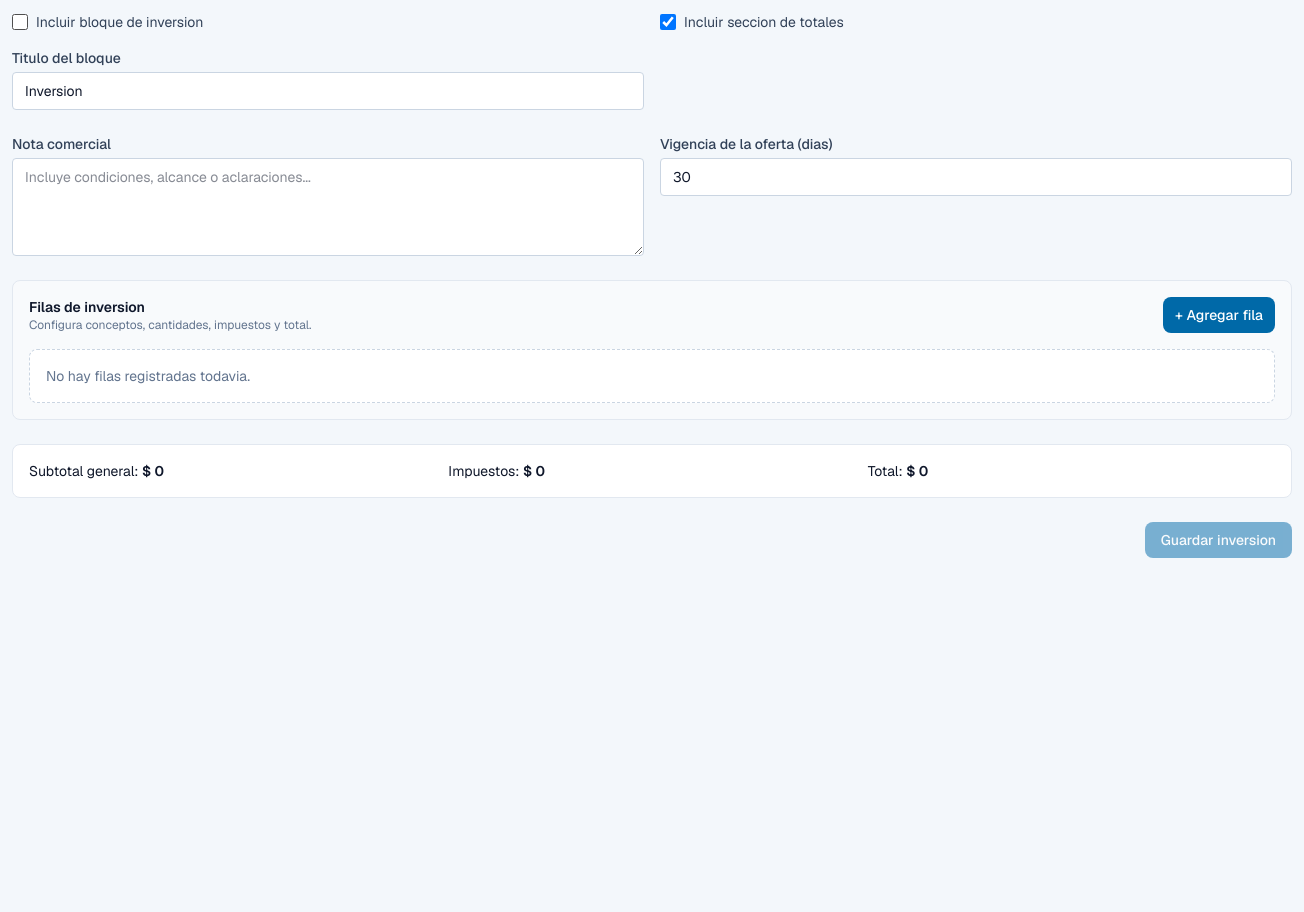
Test: InvestmentForm › adds rows and validates missing concept when enabled
Step 1. Click the checkbox labelled "Incluir bloque de inversion" → x=20, y=22, box [12,14,28,30]
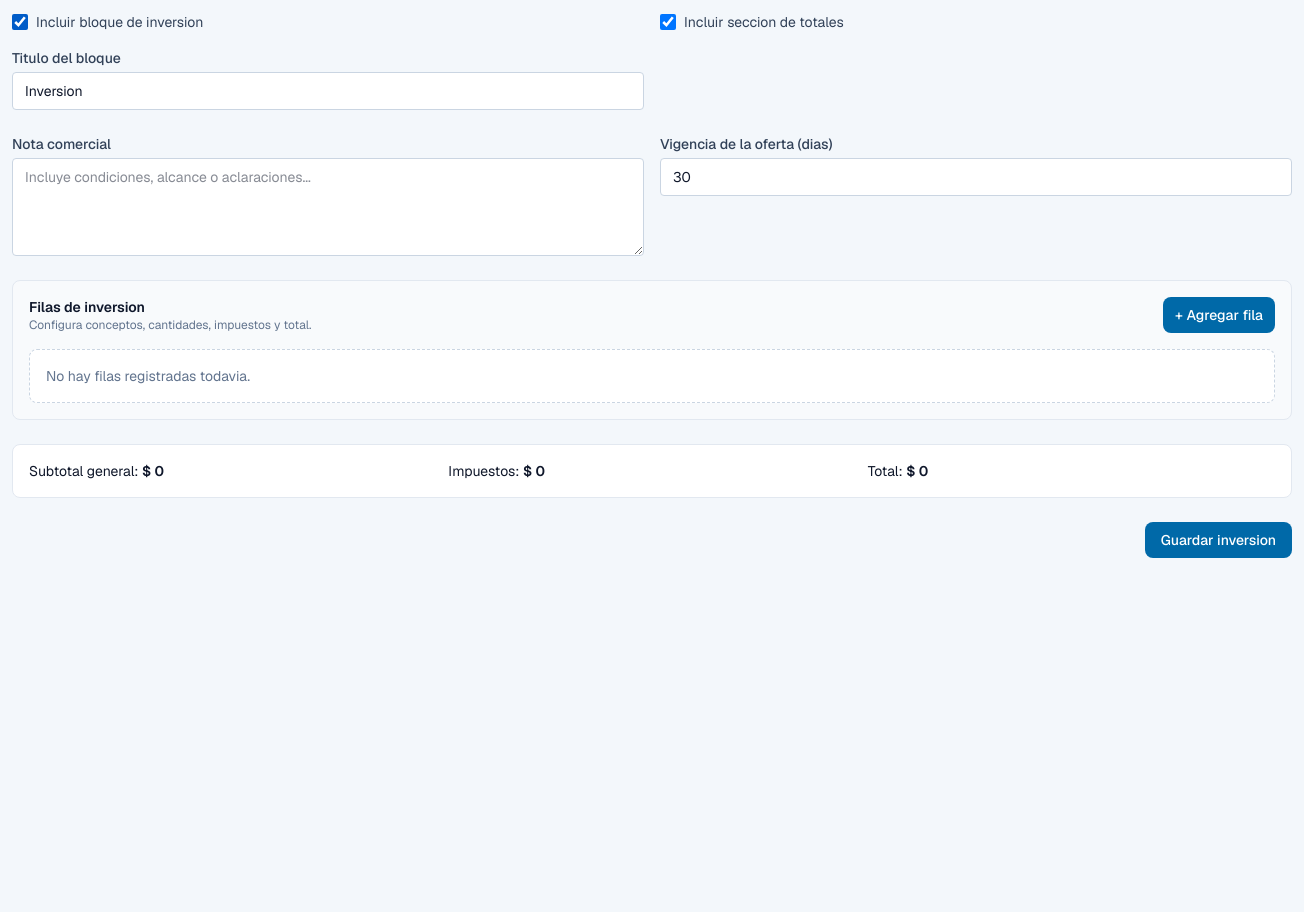
Step 2. Click the button "+ Agregar fila" → x=1219, y=315, box [1163,297,1275,333]
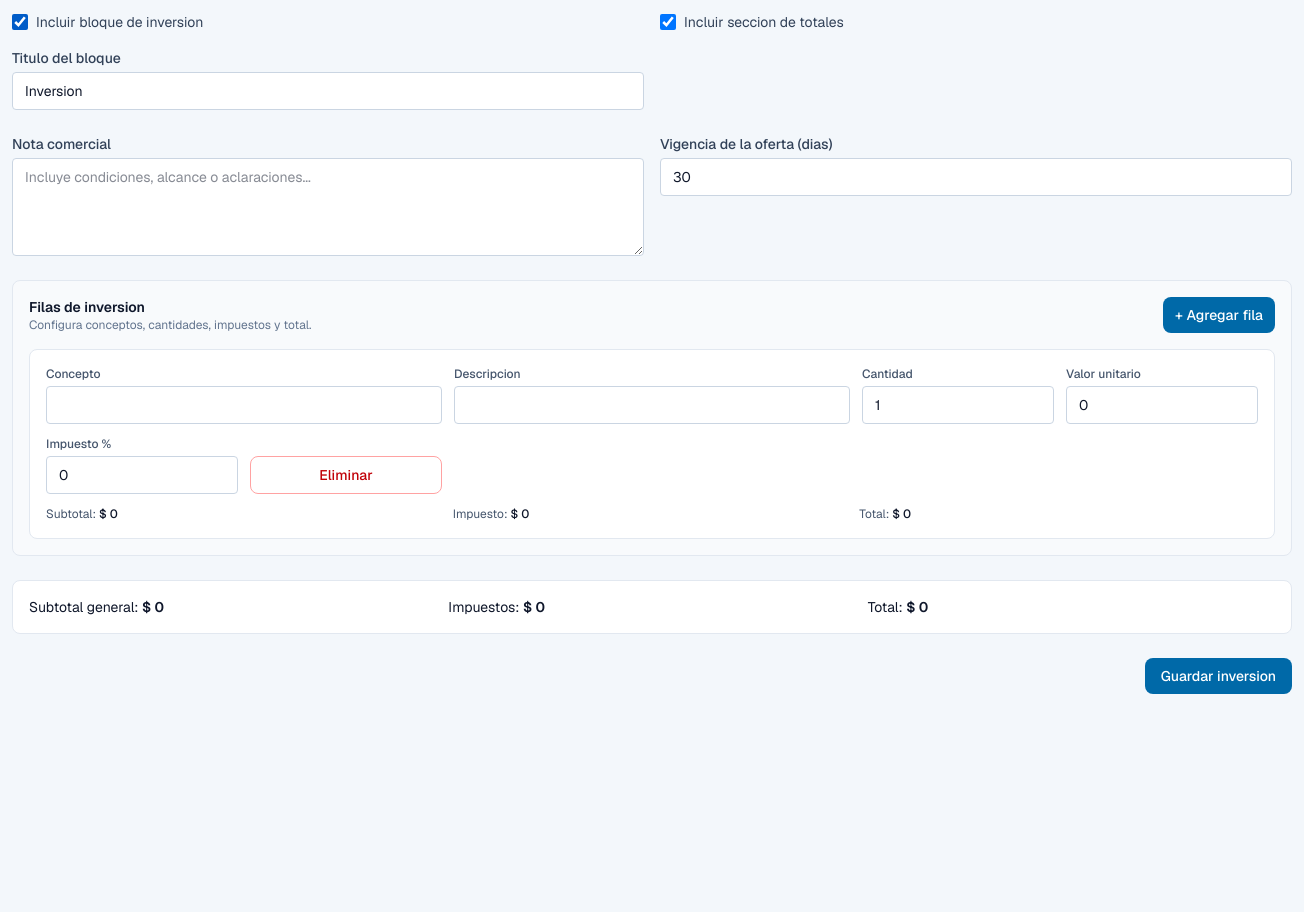
Step 3. Click the button "Guardar inversion" → x=1218, y=676, box [1145,658,1292,694]
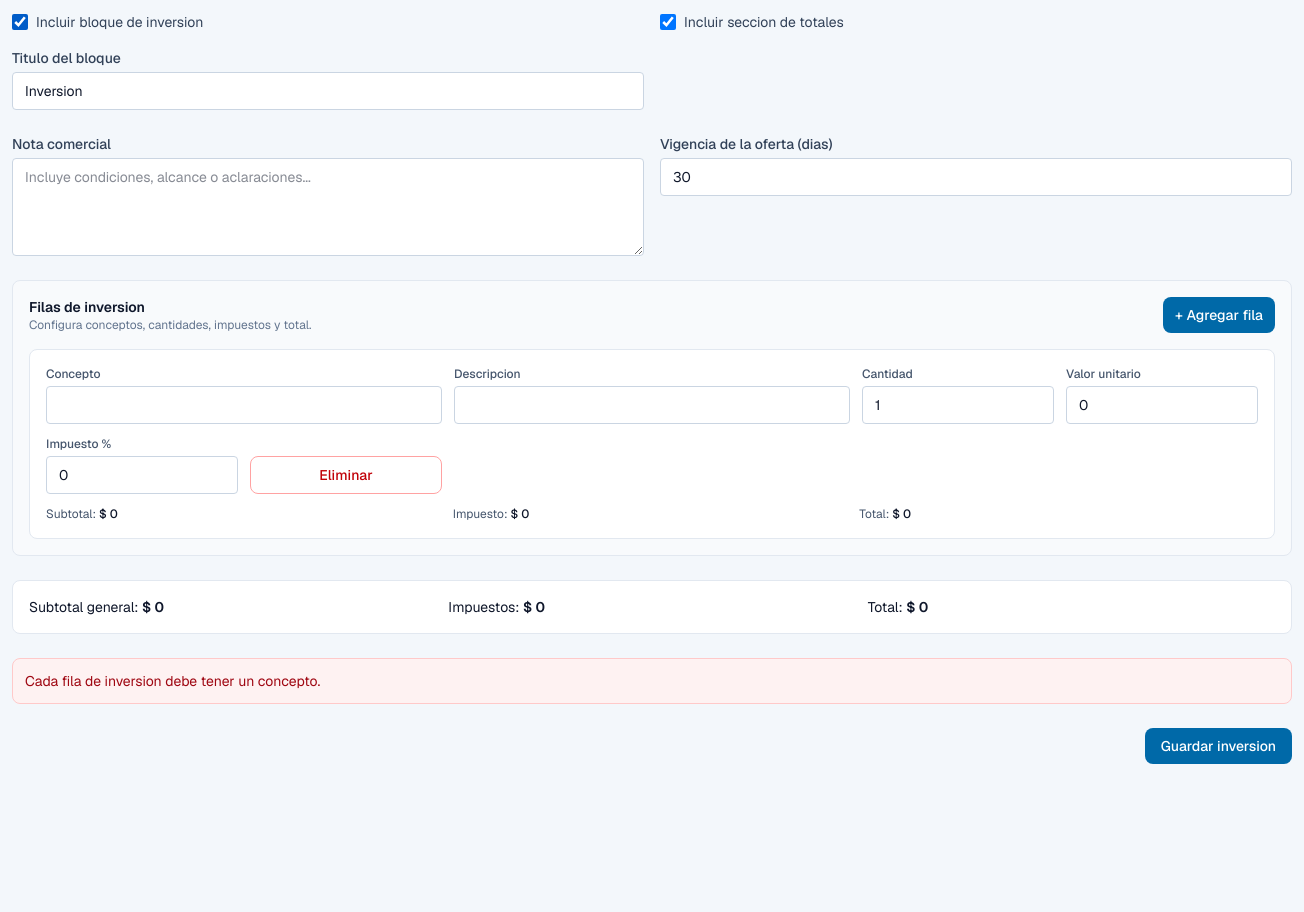
Check: the text "Cada fila de inversion debe tener un concepto." is shown, box [12,658,1292,704]
